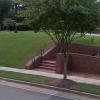Tree: (22, 0, 100, 54)
